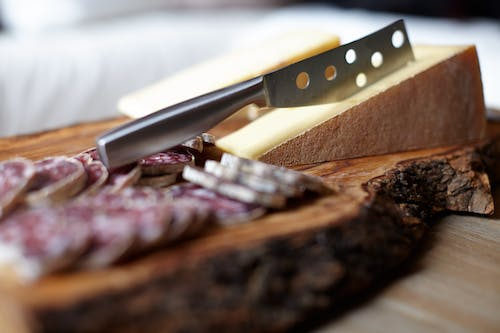knife: (96, 21, 416, 169)
